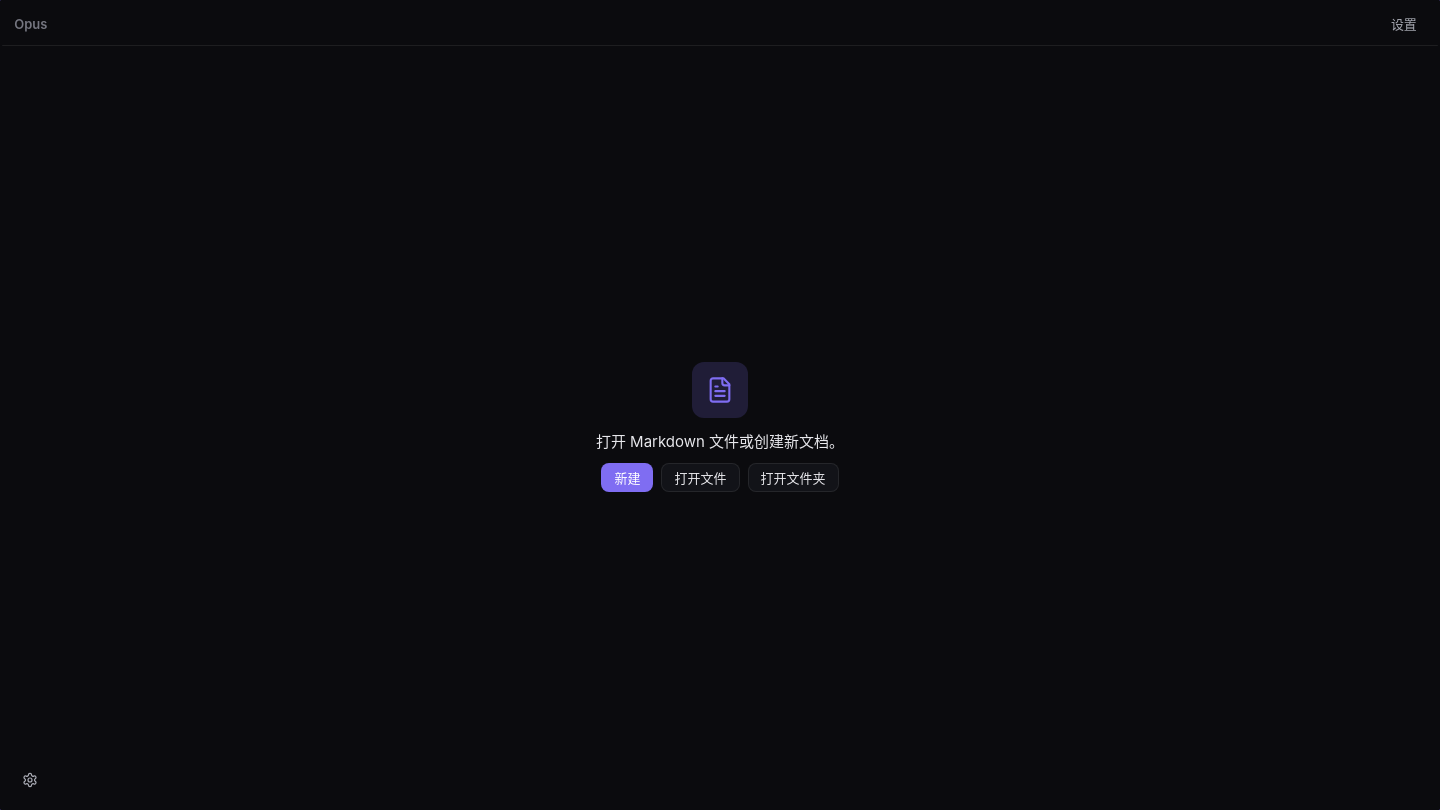
Test: accessibility: roles and names › names every dialog through its visible heading
The image size is (1440, 810).
Click the button "设置" at (1404, 24), box [1382,9,1426,38]
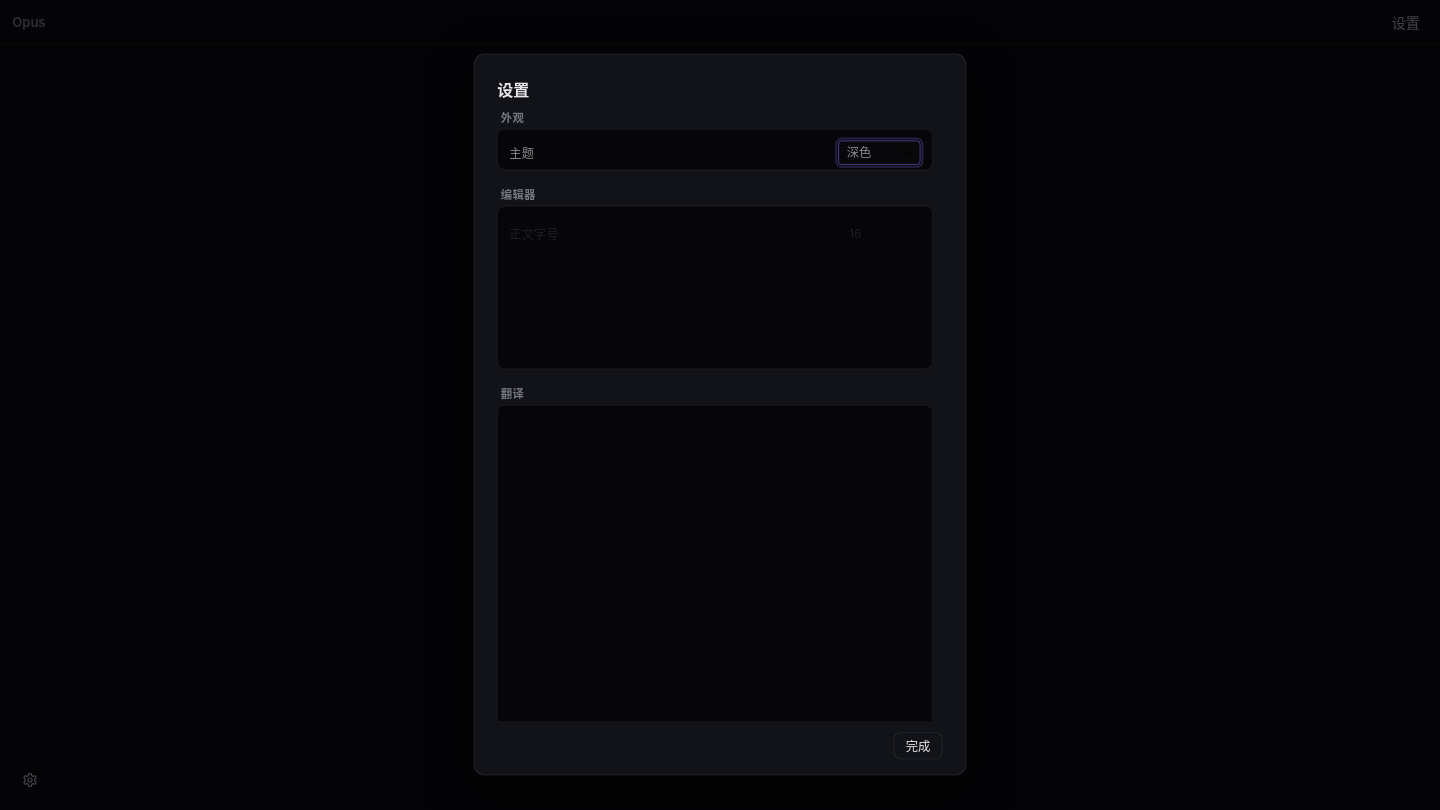
Expected: the dialog "设置" is shown
Expected: the dropdown labelled "主题" is shown, [838,140,921,165]
Press Escape in the dialog "设置", box [474,53,966,776]
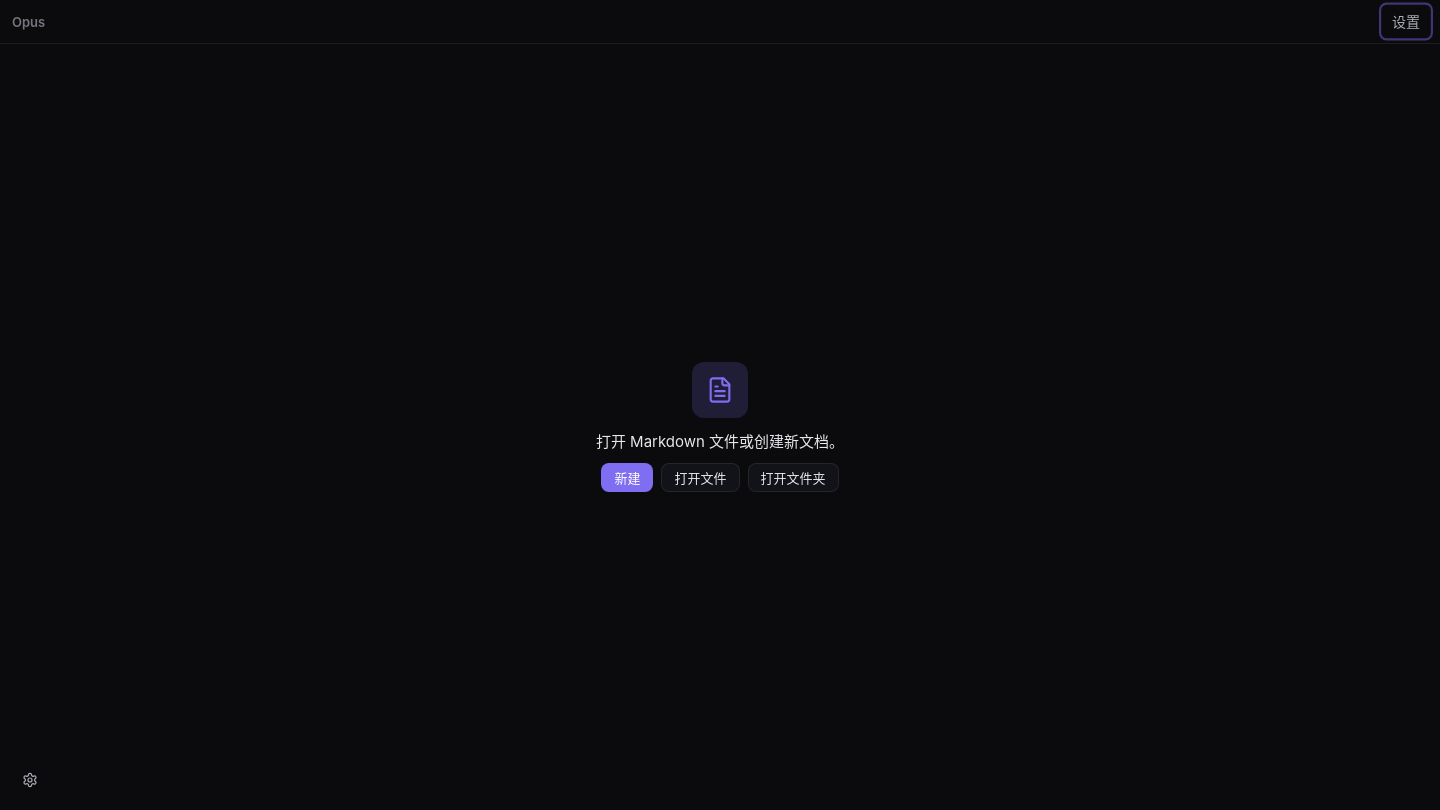
Expected: the dialog is gone
